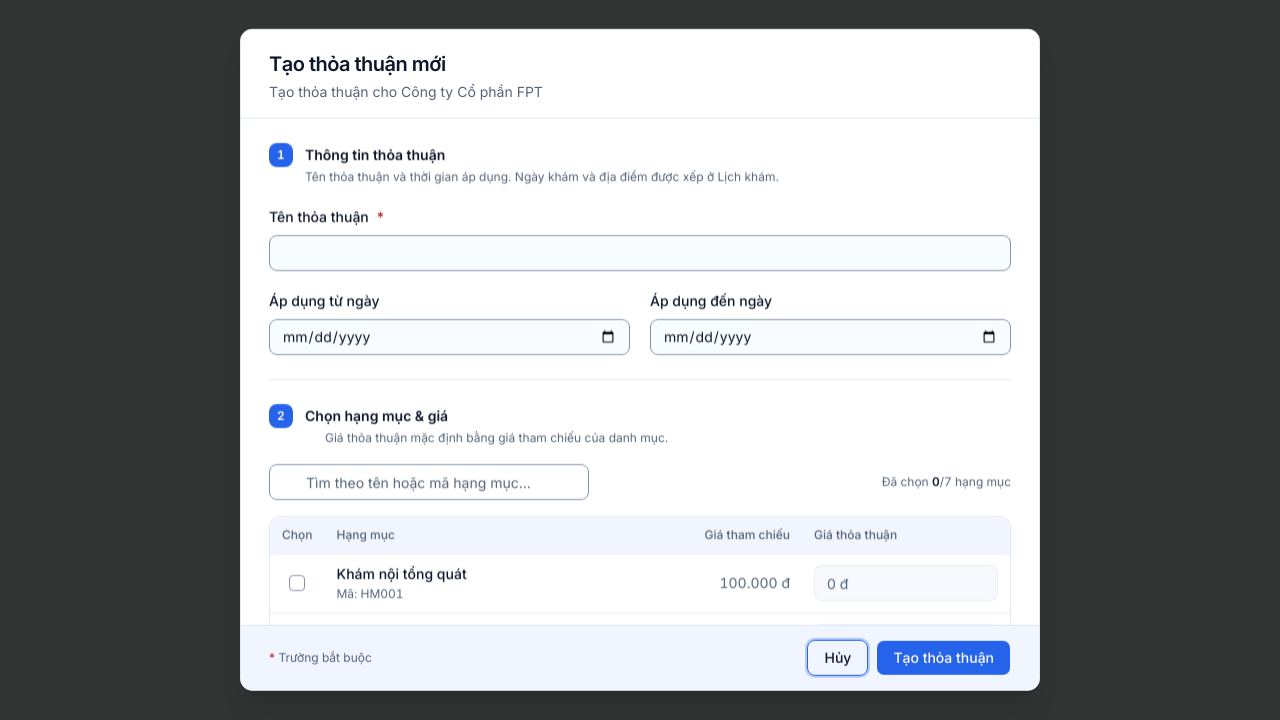
CreateHealthExaminationAgreementDialog › requires at least one selected service
The image size is (1280, 720).
Expected: the checkbox "Khám nội tổng quát" is shown, [336,565,467,582]
Type "Khám sức khỏe CBNV 2026" into the field labelled "Tên thỏa thuận *" at (640, 253), box [269,235,1011,271]
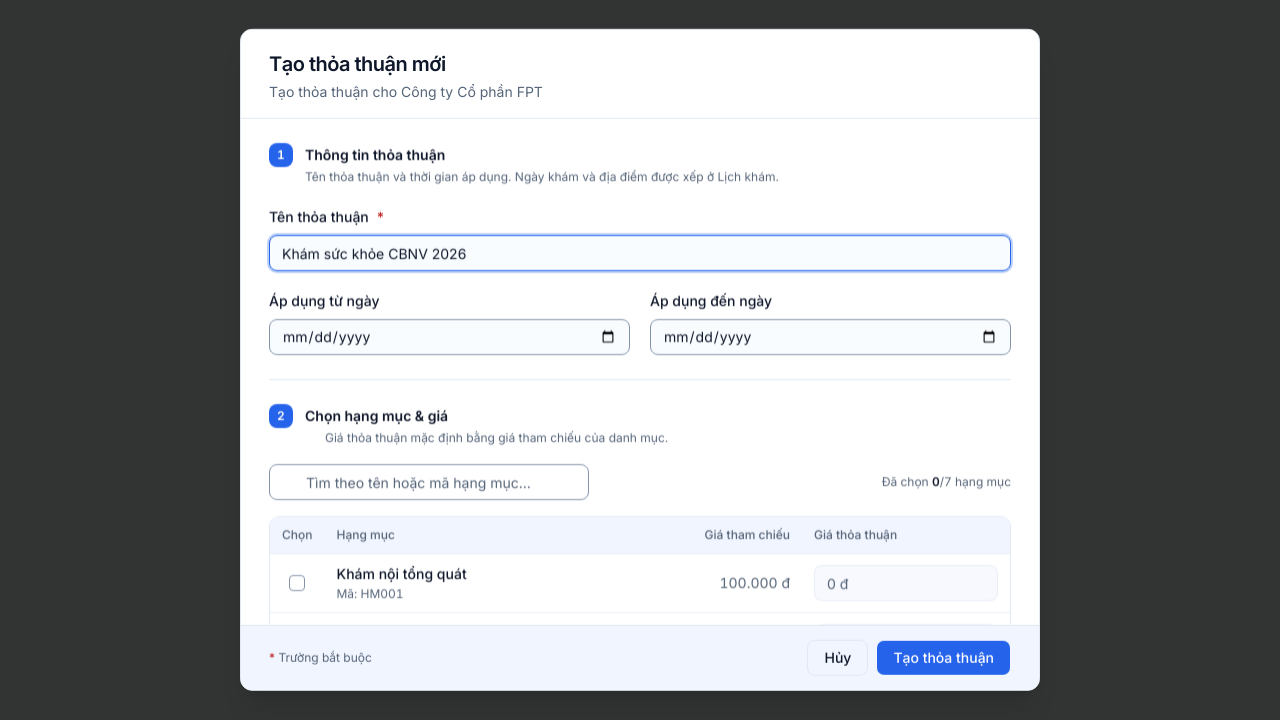
Type "2026-09-15" into the date field labelled "Áp dụng từ ngày" at (450, 337), box [269,319,630,355]
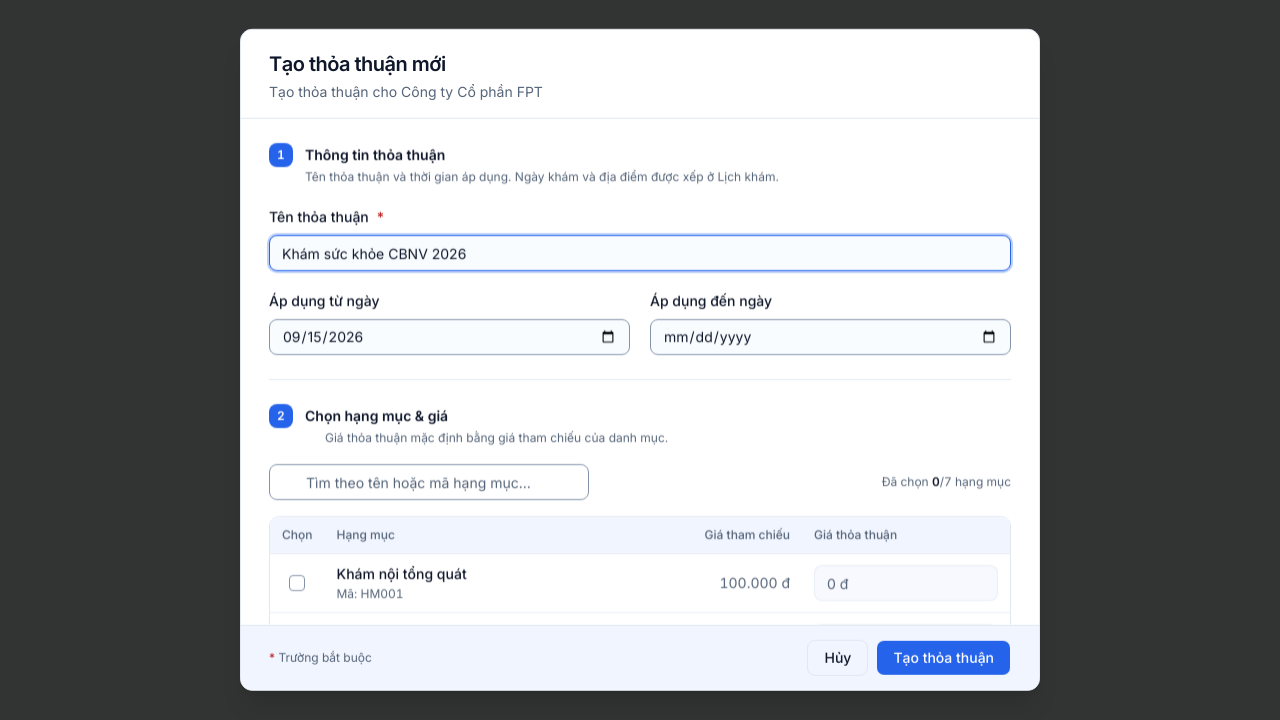
Type "2026-09-16" into the date field labelled "Áp dụng đến ngày" at (830, 337), box [650,319,1011,355]
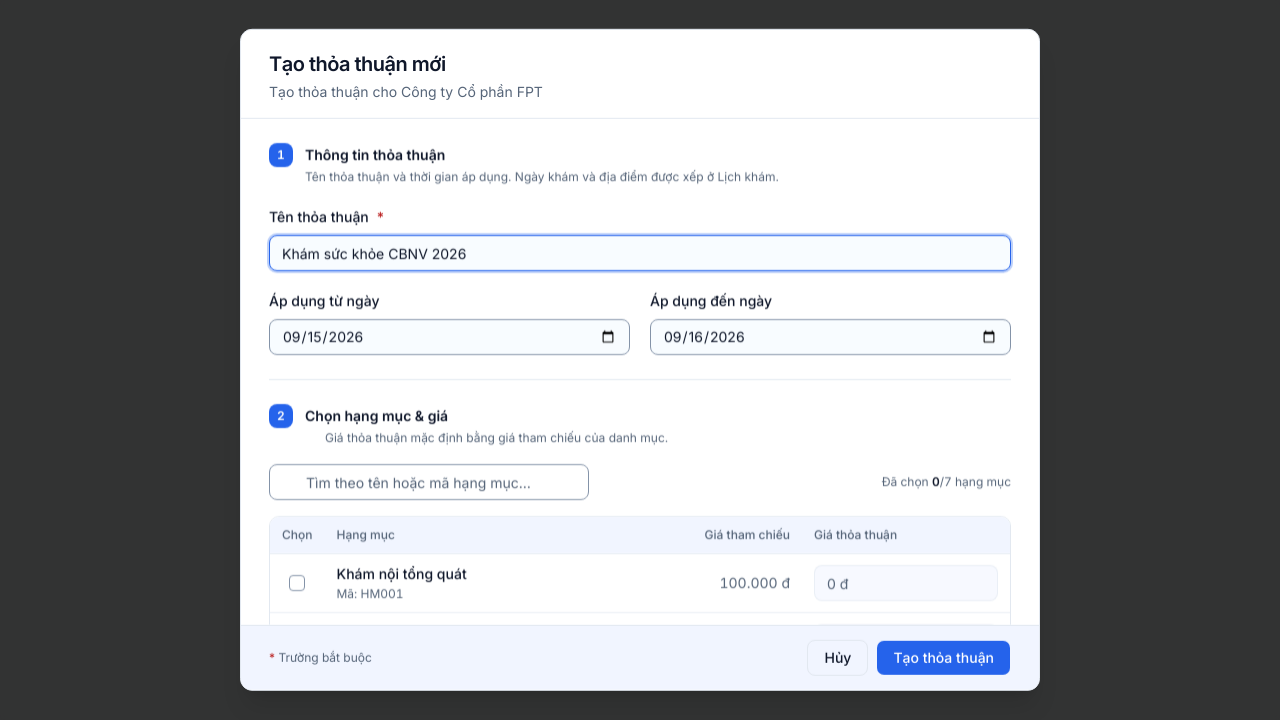
Click the button "Tạo thỏa thuận" at (944, 658), box [876,640,1011,676]
(page scrolled)
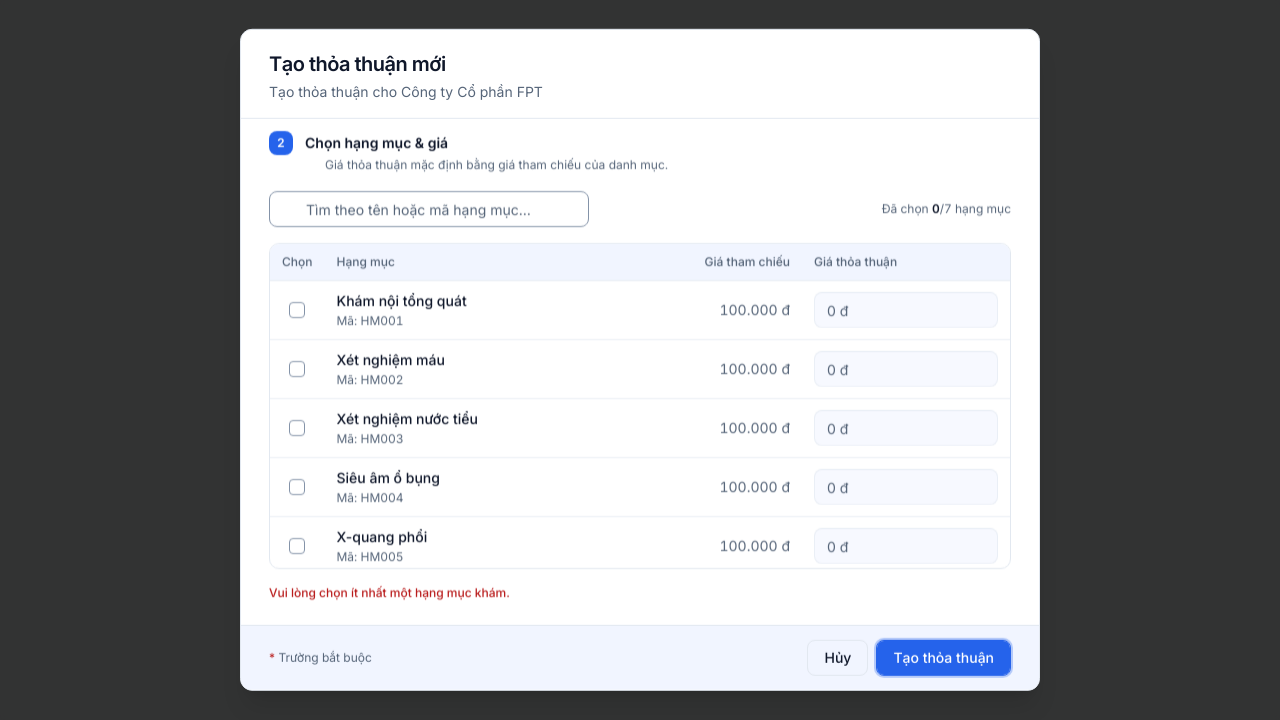
Now the text "Vui lòng chọn ít nhất một hạng mục khám." is shown, box [269,585,510,600]
